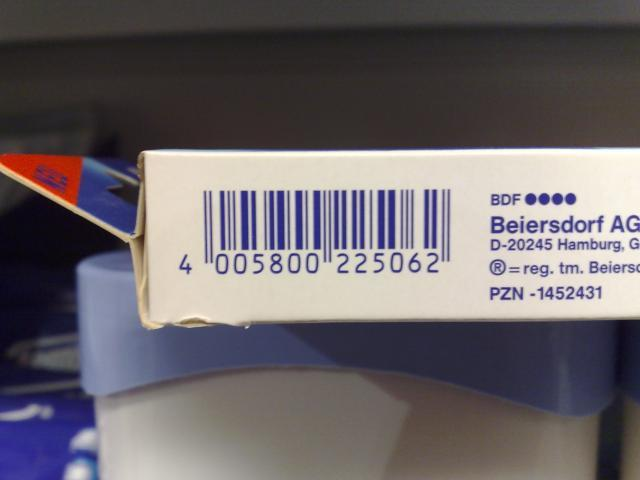Barcode: (168, 174, 467, 286)
